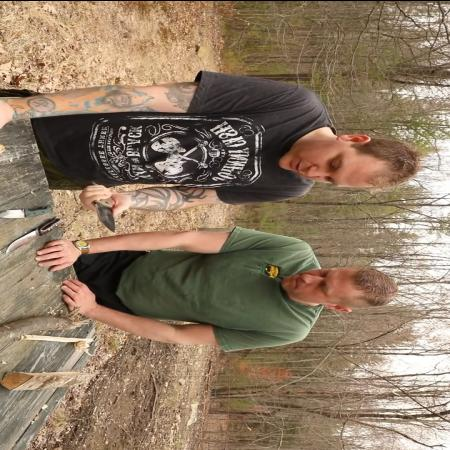long weapon: (78, 182, 133, 238)
